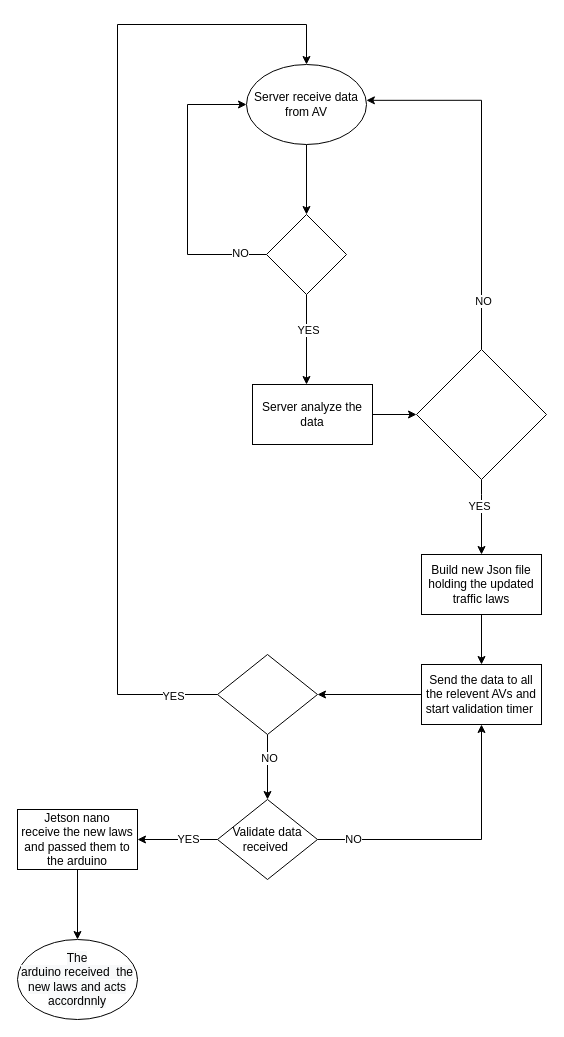
This 564x1037 diagram has some shape labels left out. The shapes that lost their labels are listed below. From the top down, each one's box as (x1, y1, x2, y2) in pixels, then its label:
(266, 214, 346, 294): The AV is authorized
(416, 348, 546, 480): Traffific laws need to be created or updated
(216, 654, 318, 734): Timer timeout
